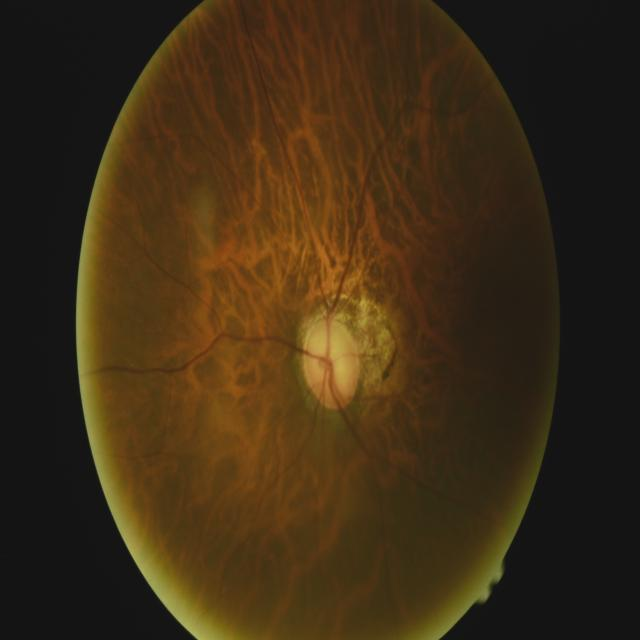cup: (315, 324, 353, 394)
disk: (303, 318, 360, 409)
